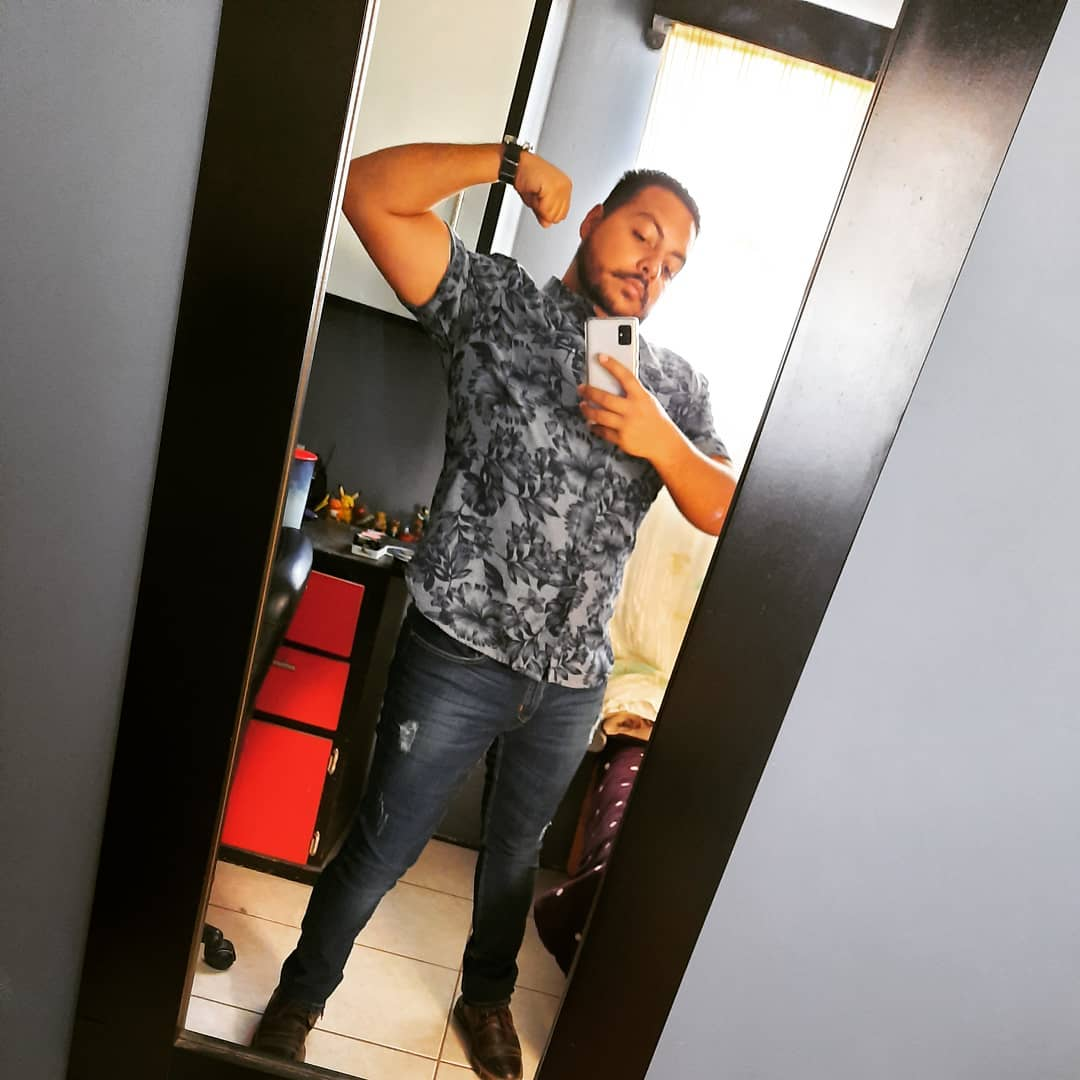Yoshi: (375, 92, 764, 674)
